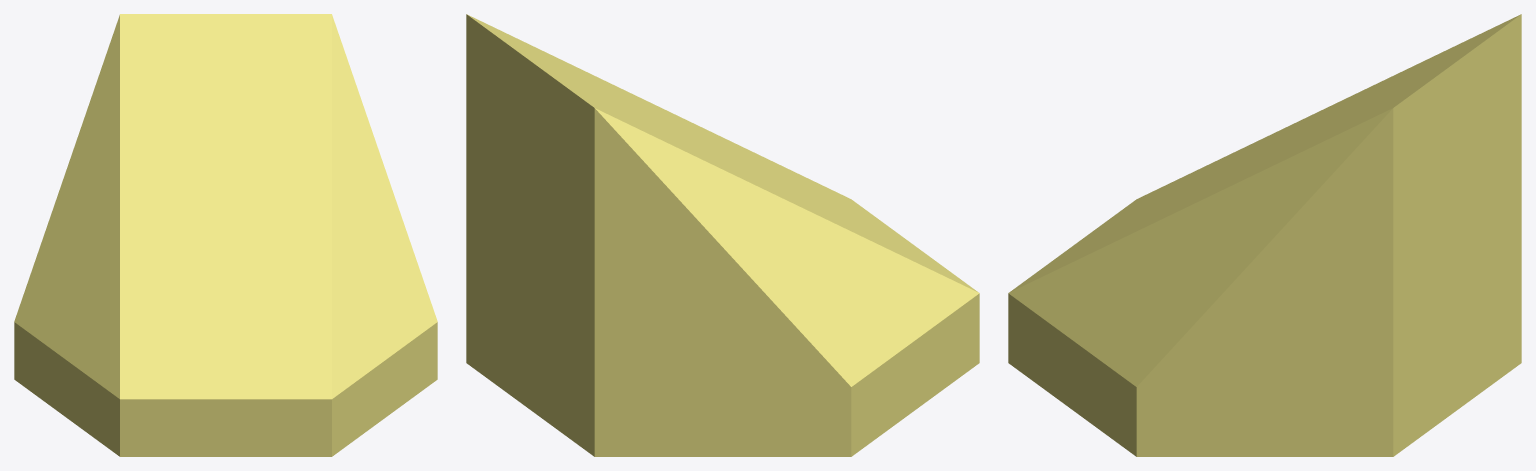
File: 1tile2.glb
3 views of the same model, side by side, from view 1: azimuth 30°, elevation 25°; view 2: azimuth 150°, elevation 25°; view 3: azimuth 270°, elevation 25° (orthographic). The views are drawn at different scales.
Parts seen in each view (by area): view 1: PalmStairTile-col; view 2: PalmStairTile-col; view 3: PalmStairTile-col.
Boxes of the visible parts, x1=… form: PalmStairTile-col: x1=14, y1=14, x2=437, y2=456; PalmStairTile-col: x1=466, y1=14, x2=979, y2=456; PalmStairTile-col: x1=1008, y1=14, x2=1521, y2=456.
Bounding box in the file's own units: 1.73 × 1.5 × 2.
Materials: 2 (2 with a texture image).
